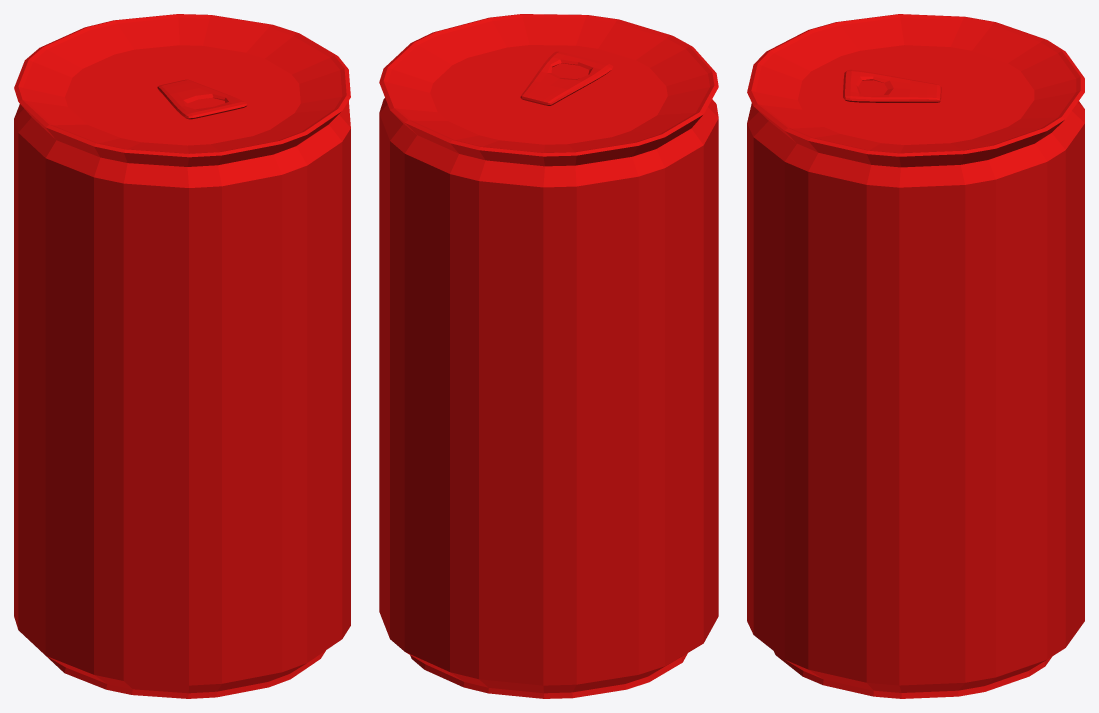
The model's file is Lata_low.fbx.
3 views of the same model, side by side, from view 1: azimuth 30°, elevation 25°; view 2: azimuth 150°, elevation 25°; view 3: azimuth 270°, elevation 25° (orthographic).
Parts seen in each view (by area): view 1: lata_low; view 2: lata_low; view 3: lata_low.
Part boxes in pixels (<box>): lata_low: <box>14,14,350,698</box>; lata_low: <box>379,14,718,698</box>; lata_low: <box>747,14,1084,698</box>.
Bounding box in the file's own units: 198 × 358 × 198.
